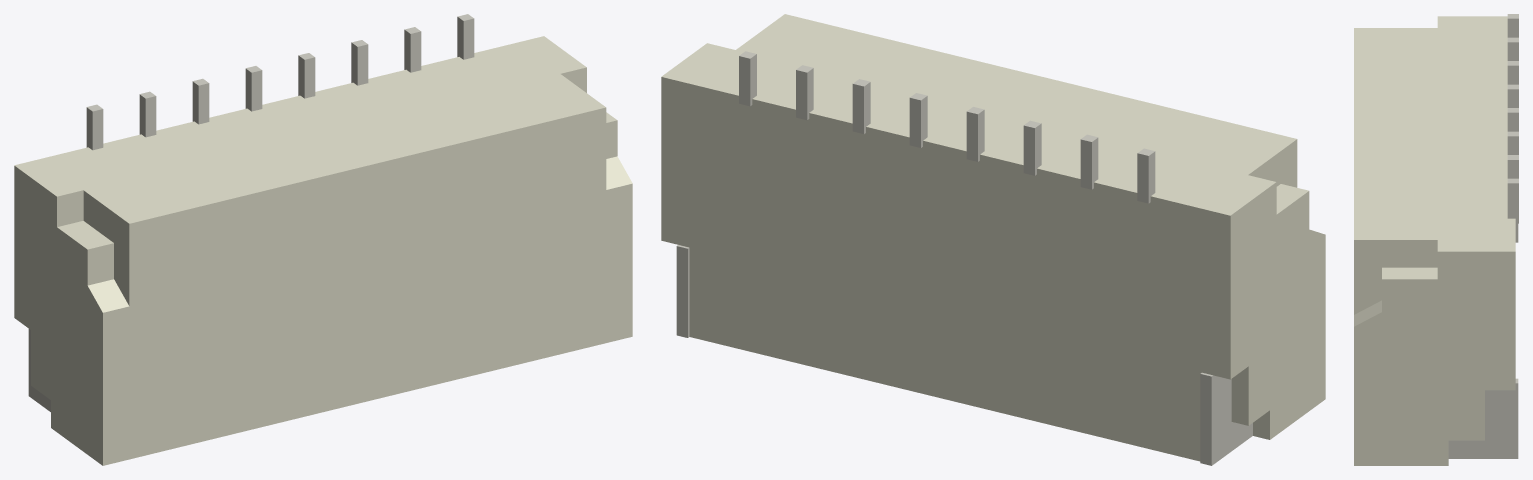
The model's file is JST_SH_SM08B-SRSS-TB_1x08-1MP_P1.00mm_Horizontal.glb.
3 views of the same model, side by side, from view 1: azimuth 30°, elevation 25°; view 2: azimuth 150°, elevation 25°; view 3: azimuth 270°, elevation 25° (orthographic). The views are drawn at different scales.
Visible parts, largest first — view 1: JST_SH_SM08B-SRSS-TB_1x08-1MP_P1.00mm_Horizontal_2e9b5e, JST_SH_SM08B-SRSS-TB_1x08-1MP_P1.00mm_Horizontal_31418c; view 2: JST_SH_SM08B-SRSS-TB_1x08-1MP_P1.00mm_Horizontal_2e9b5e, JST_SH_SM08B-SRSS-TB_1x08-1MP_P1.00mm_Horizontal_31418c; view 3: JST_SH_SM08B-SRSS-TB_1x08-1MP_P1.00mm_Horizontal_2e9b5e, JST_SH_SM08B-SRSS-TB_1x08-1MP_P1.00mm_Horizontal_31418c.
Part boxes in pixels (box(x1,y1,x2,y2)): JST_SH_SM08B-SRSS-TB_1x08-1MP_P1.00mm_Horizontal_2e9b5e: box(14, 36, 632, 465); JST_SH_SM08B-SRSS-TB_1x08-1MP_P1.00mm_Horizontal_31418c: box(28, 14, 474, 411); JST_SH_SM08B-SRSS-TB_1x08-1MP_P1.00mm_Horizontal_2e9b5e: box(661, 14, 1325, 461); JST_SH_SM08B-SRSS-TB_1x08-1MP_P1.00mm_Horizontal_31418c: box(676, 51, 1252, 465); JST_SH_SM08B-SRSS-TB_1x08-1MP_P1.00mm_Horizontal_2e9b5e: box(1354, 16, 1515, 465); JST_SH_SM08B-SRSS-TB_1x08-1MP_P1.00mm_Horizontal_31418c: box(1448, 14, 1518, 458).
Size of the model in its own units: 0.01 by 0.00495 by 0.00296.
